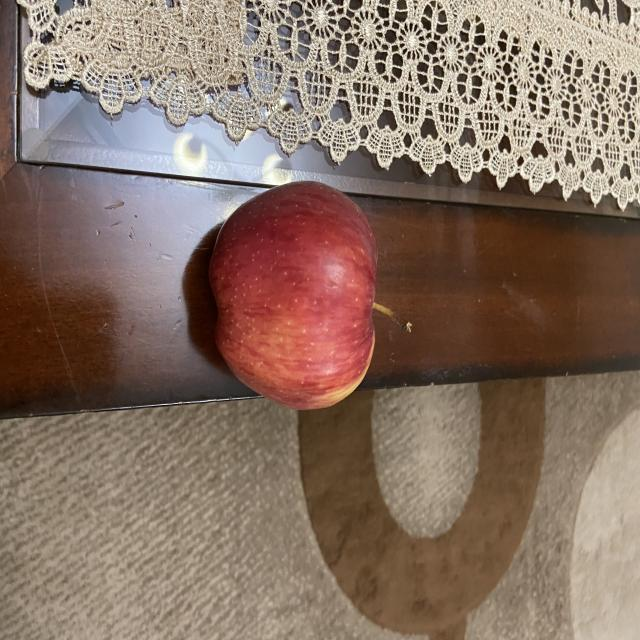apple: (208, 181, 416, 418)
